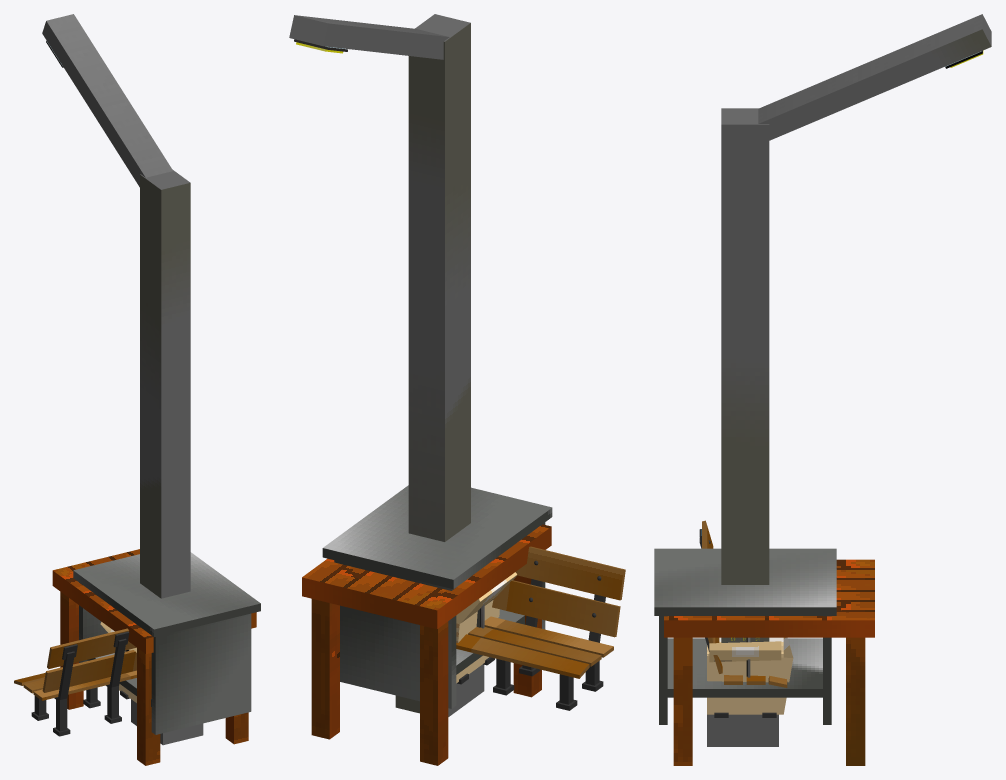
The model's file is Prop.gltf.
3 renders of one model, left to right at view 1: azimuth 30°, elevation 25°; view 2: azimuth 150°, elevation 25°; view 3: azimuth 270°, elevation 25°, orthographic. The views are drawn at different scales.
Parts seen in each view (by area): view 1: เสาไฟ, shelf, cuboid, bench; view 2: เสาไฟ, shelf, cuboid, bench, bench_Nod, BOX4, open_BOX; view 3: เสาไฟ, shelf, cuboid, BOX4, open_BOX, bench_Nod.
Boxes of the visible parts, left/top/right/bottom form: เสาไฟ: left=42, top=14, right=203, bottom=745; shelf: left=73, top=552, right=260, bottom=734; cuboid: left=52, top=549, right=256, bottom=765; bench: left=14, top=628, right=136, bottom=736; เสาไฟ: left=289, top=14, right=484, bottom=716; shelf: left=322, top=485, right=552, bottom=708; cuboid: left=302, top=524, right=551, bottom=765; bench: left=471, top=546, right=625, bottom=710; bench_Nod: left=456, top=583, right=509, bottom=684; BOX4: left=456, top=600, right=499, bottom=683; open_BOX: left=456, top=572, right=517, bottom=623; เสาไฟ: left=707, top=14, right=991, bottom=746; shelf: left=654, top=548, right=836, bottom=724; cuboid: left=664, top=559, right=874, bottom=765; BOX4: left=707, top=637, right=793, bottom=714; open_BOX: left=709, top=641, right=781, bottom=662; bench_Nod: left=705, top=637, right=787, bottom=717.
Bounding box in the file's own units: 3.19 × 10.3 × 4.4.
Materials: 18 (18 with a texture image).
